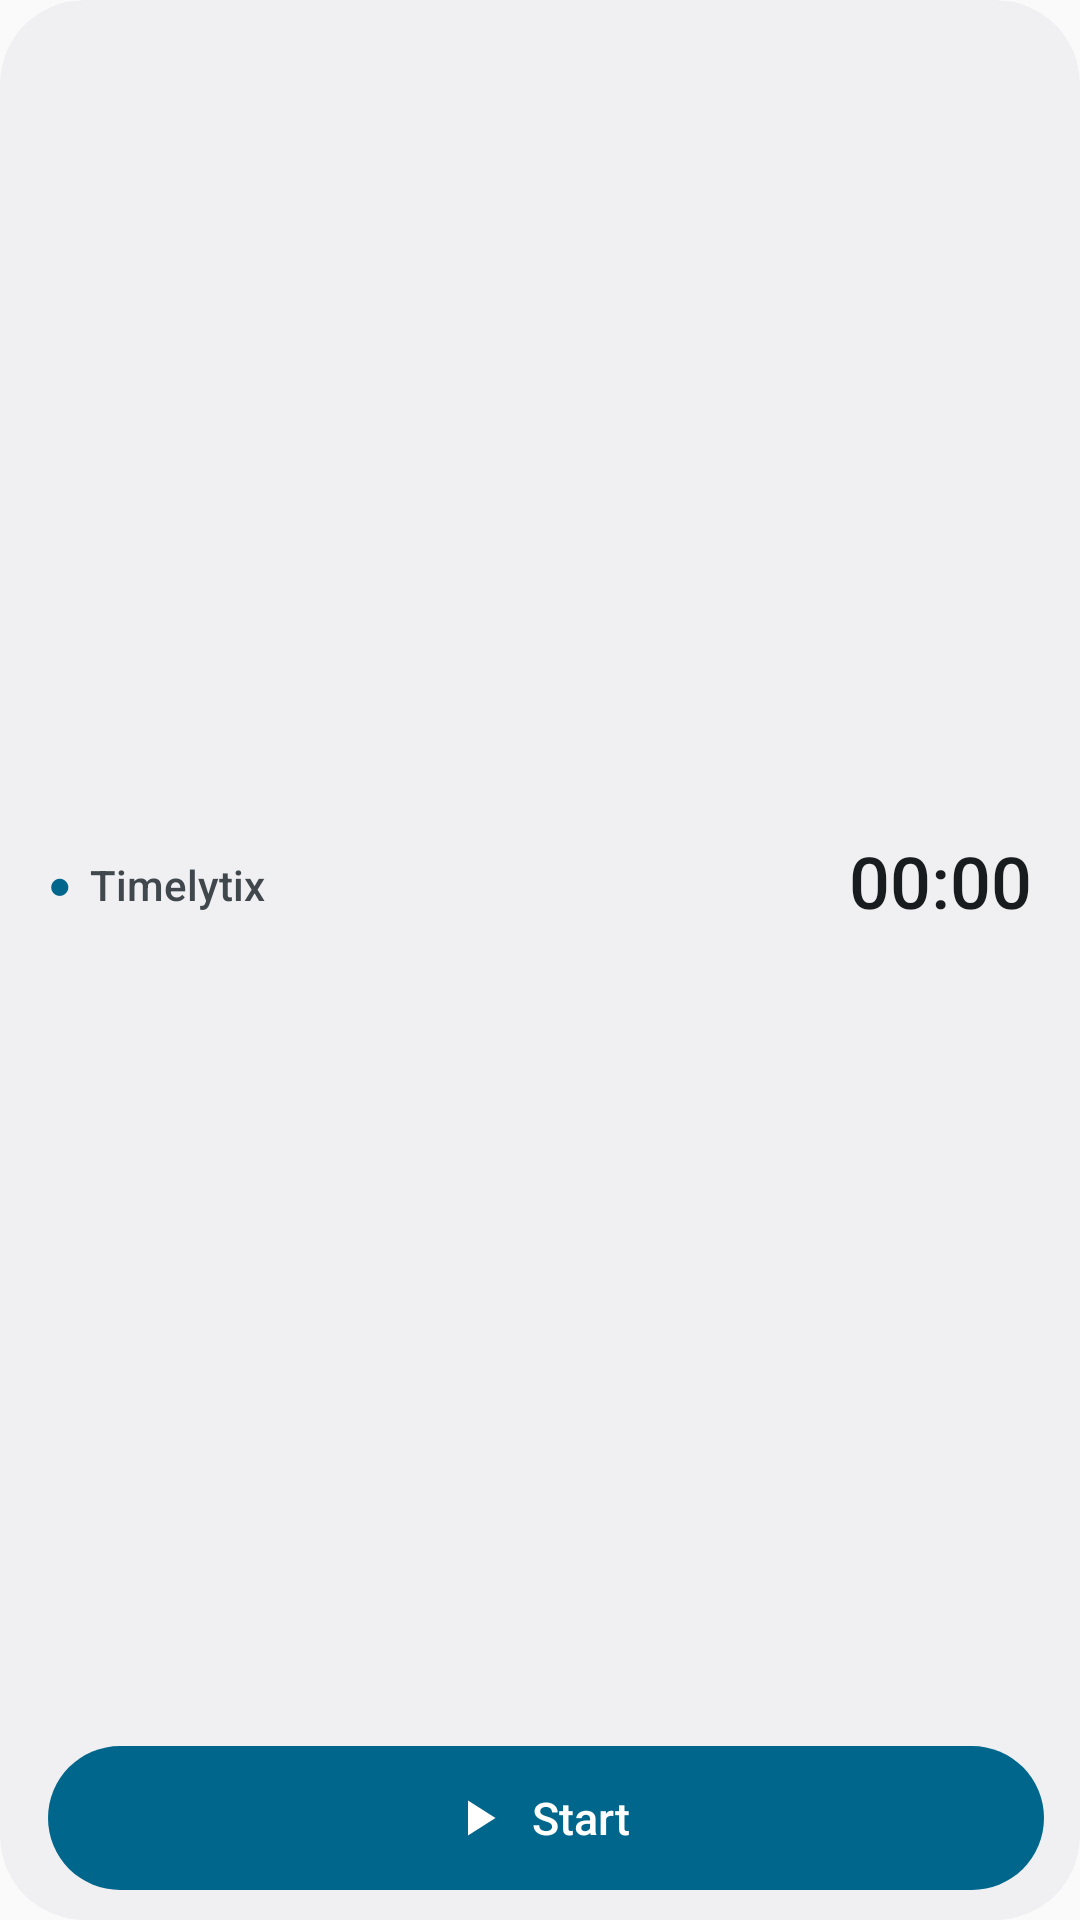

Where to tap for icons on this 1080×1920 app screen, as point (x, y):
widget play: point (481, 1818)
